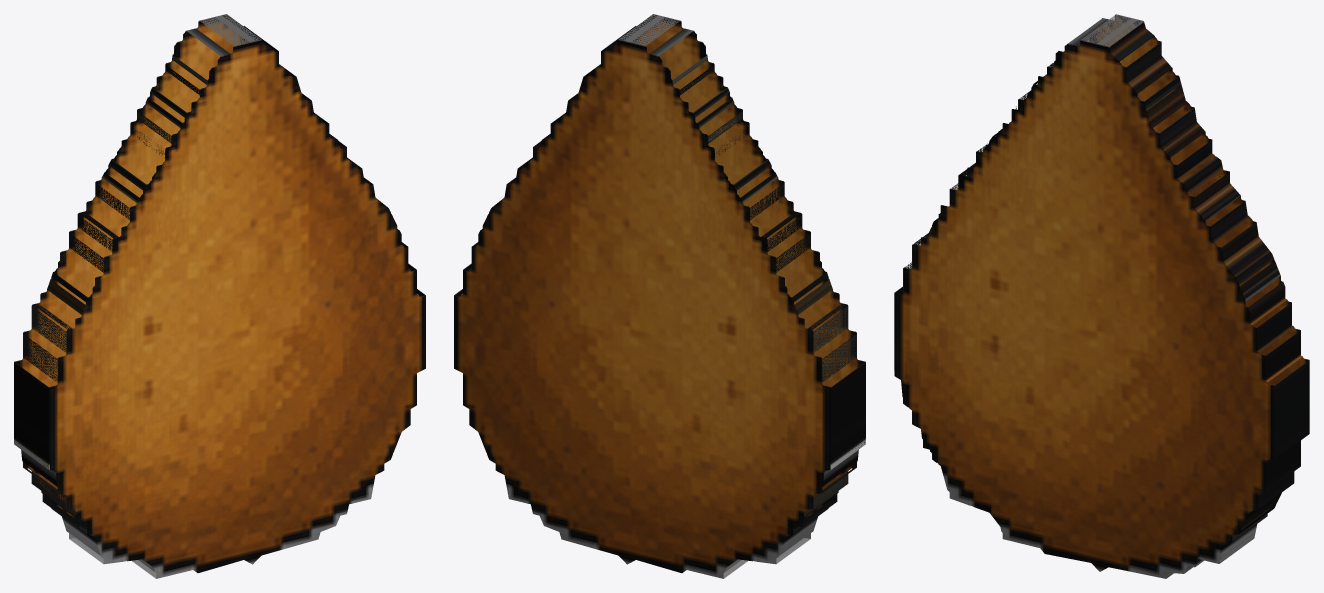
The model's file is coxinha.fbx.
3 views of the same model, side by side, from view 1: azimuth 30°, elevation 25°; view 2: azimuth 150°, elevation 25°; view 3: azimuth 330°, elevation 25° (orthographic).
Visible parts, largest first — view 1: geometry_0; view 2: geometry_0; view 3: geometry_0.
Part boxes in pixels (bbox=[...]): geometry_0: bbox=[14, 14, 425, 578]; geometry_0: bbox=[454, 14, 865, 578]; geometry_0: bbox=[894, 14, 1309, 578].
Bounding box in the file's own units: 1.72 × 2.28 × 0.2748.
1 material, 1 textured.
